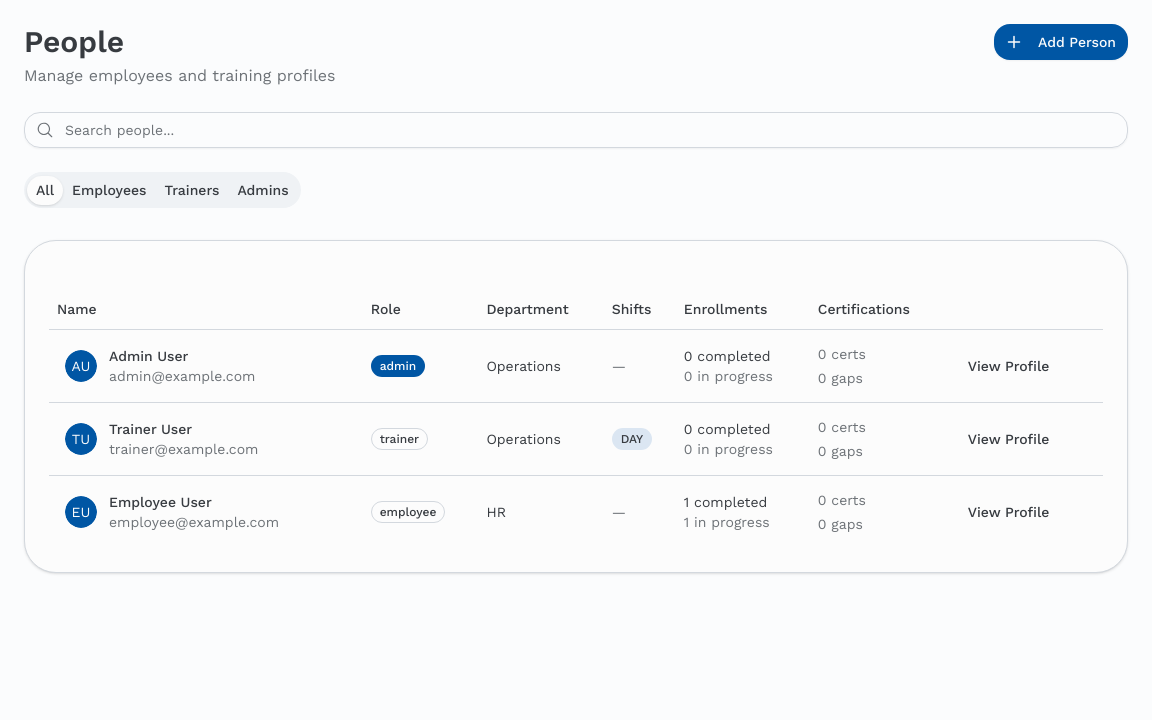
Test: People › shows empty state when no users match filters
Type "no-match-user" into the field with placeholder "Search people...". click: (576, 130)
box: [24,112,1128,148]
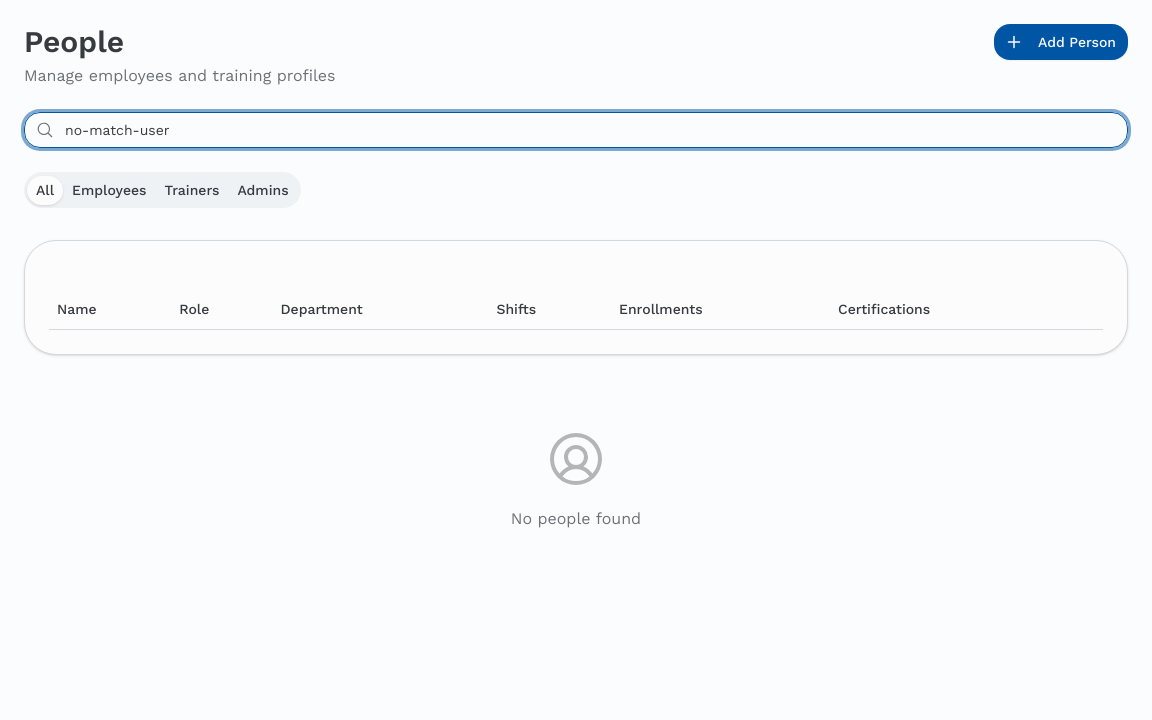
Now the text "No people found" is shown, box [511,508,641,528]
